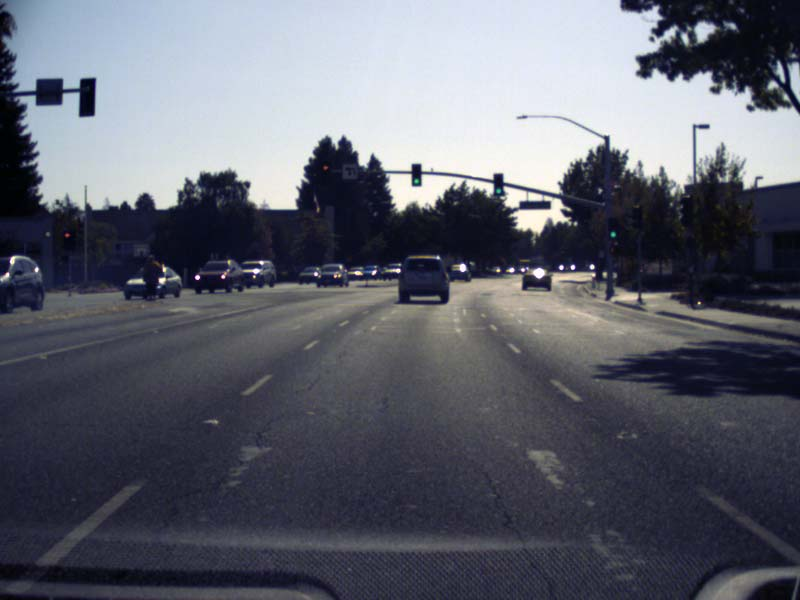Green: (608, 217, 618, 240), (411, 163, 421, 185), (493, 173, 502, 195)
Red: (62, 230, 73, 251), (321, 160, 330, 183)
